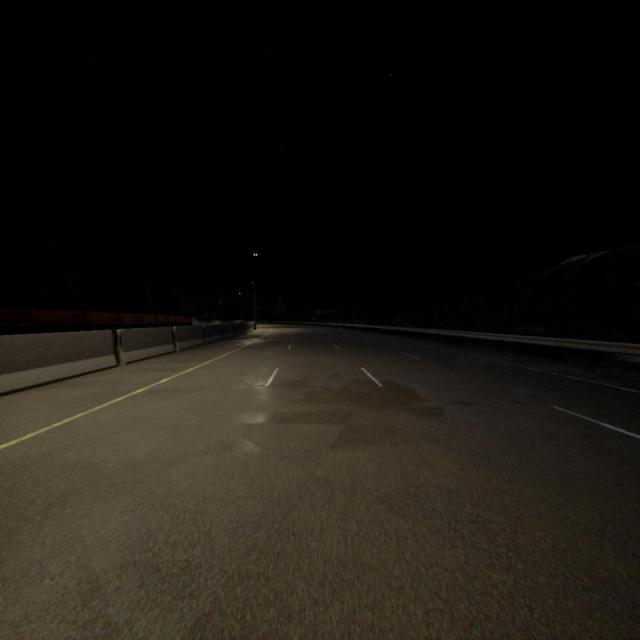Traffic_Signs: (313, 317, 315, 320)
